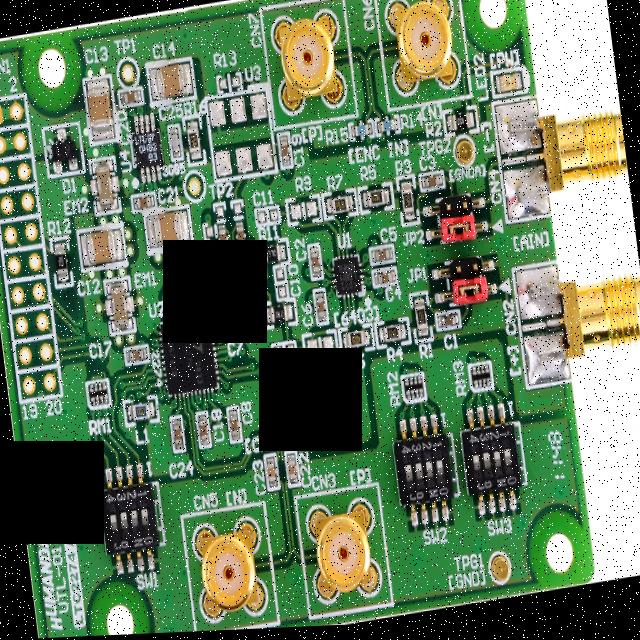-capacitor jumper- CJ1: (228, 197, 248, 255)
-capacitor jumper- CJ2: (197, 199, 231, 263)
-component text- -021 LDBM N389-: (334, 262, 357, 292)
-component text- -0833 LTC2274 UJ BT267910-: (160, 320, 206, 393)
-component text- -1 2 3 4-: (465, 427, 509, 450), (102, 485, 148, 503), (398, 440, 441, 458)
-component text- -LTDQP 0HB2 e3-: (131, 129, 158, 165)
-component text- -O N O J-: (405, 485, 448, 506), (110, 530, 152, 551), (474, 477, 516, 494)
-component text- 000: (133, 403, 144, 417)
-component text- 102: (452, 117, 463, 130)
-component text- 159: (186, 132, 196, 149)
-component text- 270: (264, 247, 275, 259), (272, 310, 282, 320)
-component text- 4020: (347, 333, 359, 346), (332, 199, 343, 211)
-component text- L9: (50, 140, 70, 158)
-emi filter- EM1: (102, 277, 133, 334)
-emi filter- EM2: (86, 157, 118, 214)
-resistor network- RM1: (84, 378, 108, 408)
-resistor network- RM2: (399, 374, 425, 406)
-resistor network- RM3: (466, 366, 491, 395)
-test point- TP1: (110, 52, 140, 90)
-test point- TP2: (182, 170, 202, 201)
-test point- TPG1: (484, 550, 512, 590)
-test point- TPG2: (452, 138, 473, 169)
2024: (394, 177, 416, 228)
2080: (372, 320, 408, 349)
2156: (356, 184, 392, 214)
2189: (336, 326, 372, 355)
2200: (320, 190, 356, 221)
2240: (89, 456, 167, 578)
2242: (384, 411, 461, 533)
2243: (454, 403, 529, 522)
2249: (446, 571, 484, 594), (504, 345, 520, 382), (478, 122, 494, 157)
2298: (330, 306, 378, 330)
2310: (509, 234, 547, 255)
2328: (242, 427, 313, 457)
2362: (344, 140, 406, 167)
2377: (445, 165, 485, 187)
2412: (56, 506, 85, 630)
2433: (222, 486, 245, 509), (419, 104, 441, 125)
2440: (346, 467, 372, 490), (298, 124, 322, 146)
2509: (486, 51, 518, 72)
2596: (44, 514, 68, 617)
2644: (503, 402, 515, 423), (436, 411, 445, 432)
2656: (544, 429, 568, 488)
2693: (18, 399, 38, 424)
2700: (5, 73, 17, 92)
2701: (40, 396, 61, 419)
2712: (148, 346, 162, 390)
2731: (157, 161, 185, 180)
2844: (440, 333, 458, 356)
2845: (282, 261, 302, 301)
2856: (248, 187, 274, 209)
2867: (72, 274, 101, 298)
2878: (80, 39, 108, 67)
2889: (148, 36, 176, 60)
2900: (166, 246, 192, 270)
2911: (190, 257, 214, 279)
2922: (84, 336, 112, 360)
2933: (207, 404, 225, 446)
2944: (286, 132, 305, 174)
2955: (290, 239, 306, 263)
2956: (111, 105, 130, 146)
2967: (154, 182, 181, 208)
2978: (296, 453, 310, 490)
2989: (248, 458, 266, 498)
3000: (165, 459, 194, 483)
3011: (154, 99, 182, 123)
3057: (414, 156, 436, 175)
3153: (381, 284, 402, 307)
3188: (378, 226, 396, 248)
3199: (296, 303, 314, 329)
3210: (221, 336, 245, 361)
3221: (239, 400, 252, 427)
3232: (276, 360, 296, 382)
3247: (236, 260, 254, 297)
3248: (218, 256, 238, 300)
3250: (0, 48, 9, 75)
3251: (498, 301, 516, 342)
3252: (306, 471, 336, 493)
3253: (483, 168, 502, 211)
3254: (188, 489, 218, 513)
3255: (356, 0, 374, 36)
3256: (242, 5, 262, 54)
3269: (58, 173, 76, 195)
3339: (131, 268, 156, 290)
3340: (58, 191, 88, 218)
3452: (28, 501, 62, 636)
3521: (403, 266, 426, 286)
3527: (398, 230, 424, 250)
3561: (130, 424, 150, 448)
3576: (469, 52, 489, 106)
3766: (415, 343, 433, 364)
3767: (242, 304, 262, 345)
3778: (254, 222, 278, 244)
3789: (44, 214, 72, 238)
3800: (209, 46, 237, 72)
3811: (396, 110, 422, 130)
3822: (321, 125, 347, 149)
3833: (181, 98, 207, 118)
3877: (422, 122, 442, 141)
3985: (391, 160, 410, 178)
4046: (382, 346, 404, 367)
4122: (356, 163, 376, 186)
4157: (346, 352, 366, 375)
4168: (322, 173, 342, 196)
4179: (310, 356, 331, 381)
4190: (291, 174, 312, 197)
4210: (85, 413, 112, 439)
4211: (383, 371, 400, 412)
4212: (448, 361, 468, 402)
4266: (132, 568, 158, 594)
4270: (418, 526, 448, 552)
4271: (482, 517, 512, 541)
4303: (110, 30, 136, 58)
4312: (206, 178, 234, 202)
4325: (451, 552, 483, 577)
4326: (416, 138, 452, 159)
4341: (332, 231, 352, 253)
4352: (144, 298, 164, 320)
4363: (241, 64, 262, 85)
4367: (114, 144, 133, 175)
4436: (494, 279, 512, 301), (489, 220, 504, 240)
capacitor C10: (432, 310, 460, 336)
capacitor C120: (76, 224, 125, 269)
capacitor C130: (81, 72, 115, 145)
capacitor C140: (145, 58, 194, 105)
capacitor C150: (141, 204, 191, 252)
capacitor C160: (192, 272, 218, 294)
capacitor C170: (122, 345, 146, 365)
capacitor C180: (194, 411, 209, 449)
capacitor C190: (276, 133, 290, 168)
capacitor C20: (306, 244, 322, 282)
capacitor C200: (118, 88, 140, 106)
capacitor C210: (130, 191, 154, 213)
capacitor C220: (283, 451, 298, 489)
capacitor C230: (262, 454, 277, 490)
capacitor C240: (167, 416, 183, 451)
capacitor C250: (167, 126, 180, 160)
capacitor C30: (417, 173, 443, 193)
capacitor C40: (370, 268, 395, 290)
capacitor C50: (367, 244, 393, 268)
capacitor C60: (312, 289, 326, 327)
capacitor C70: (218, 314, 244, 338)
capacitor C80: (223, 406, 240, 443)
connector CN2: (0, 94, 61, 400)
connector CN3: (510, 252, 640, 392)
connector CN4: (294, 484, 388, 617)
connector CN5: (490, 83, 630, 225)
connector CN6: (180, 501, 277, 634)
connector CN7: (371, 0, 467, 111)
connector CNA: (259, 0, 355, 131)
connector JP11: (424, 253, 498, 287)
connector JP20: (416, 194, 484, 226)
diode D10: (38, 121, 83, 179)
ic U1: (328, 253, 363, 301)
ic U2: (153, 310, 219, 401)
ic U4: (125, 110, 164, 187)
inductor L10: (120, 392, 160, 429)
jumper JP1: (427, 276, 498, 312)
jumper JP2: (422, 213, 491, 250)
led LED2: (489, 70, 526, 99)
pads C10: (271, 264, 287, 300)
pads C11: (250, 206, 279, 228)
pads C9: (267, 341, 296, 365)
pads R13: (213, 71, 242, 95)
pads R8: (298, 330, 338, 362)
pads R9: (282, 194, 321, 229)
pads U3: (204, 88, 274, 182)
resistor R10: (408, 292, 430, 345)
resistor R100: (260, 300, 294, 329)
resistor R110: (252, 238, 287, 269)
resistor R120: (48, 235, 70, 286)
resistor R140: (372, 116, 399, 138)
resistor R150: (346, 119, 372, 141)
resistor R160: (182, 116, 202, 164)
resistor R20: (441, 107, 477, 139)
